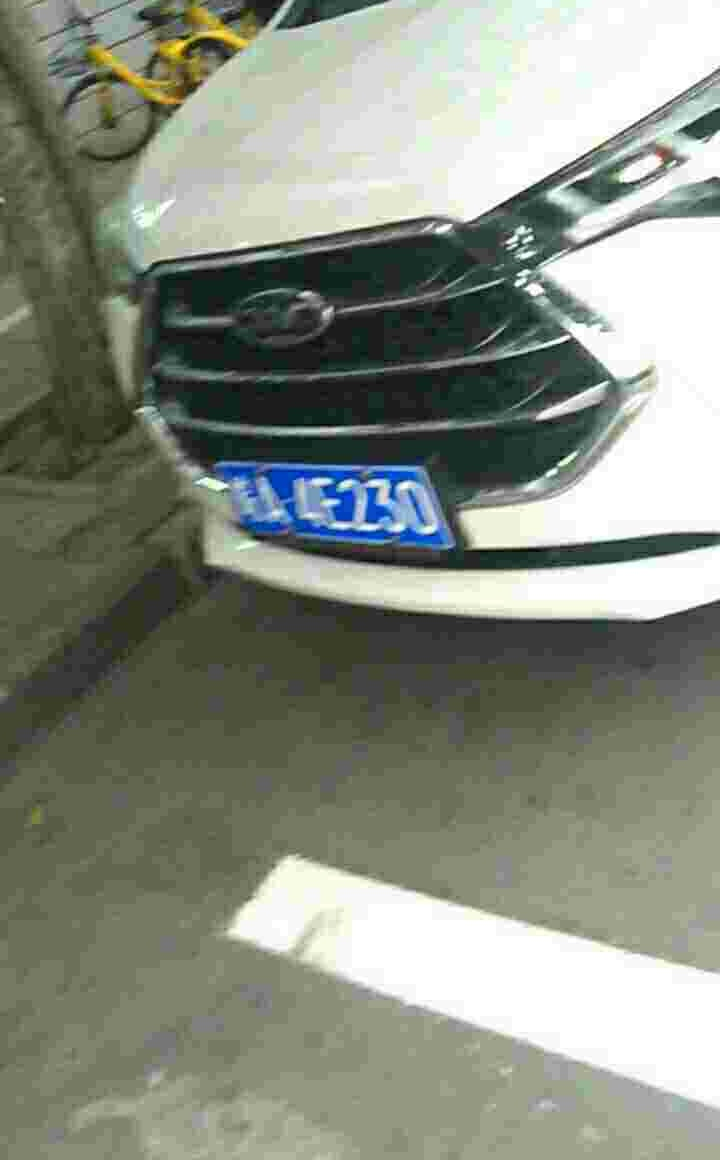car: (214, 464, 451, 551)
